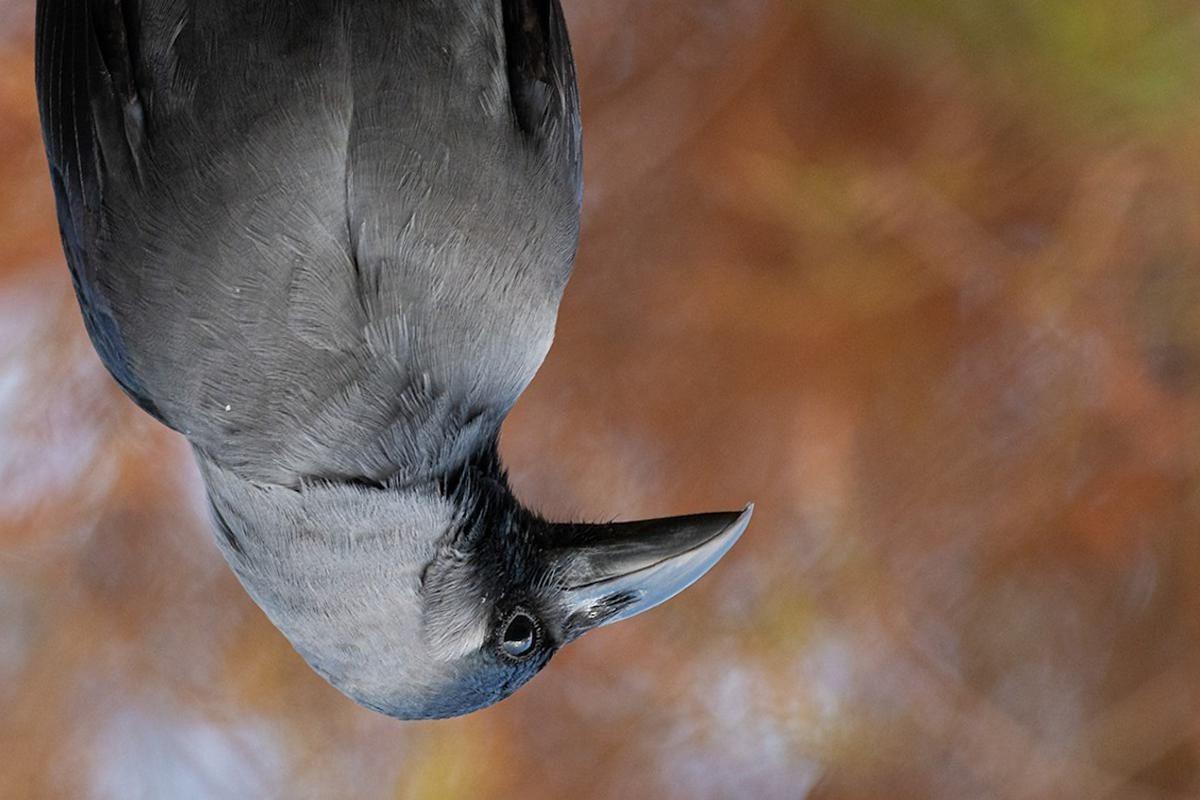crow: (39, 1, 774, 735)
